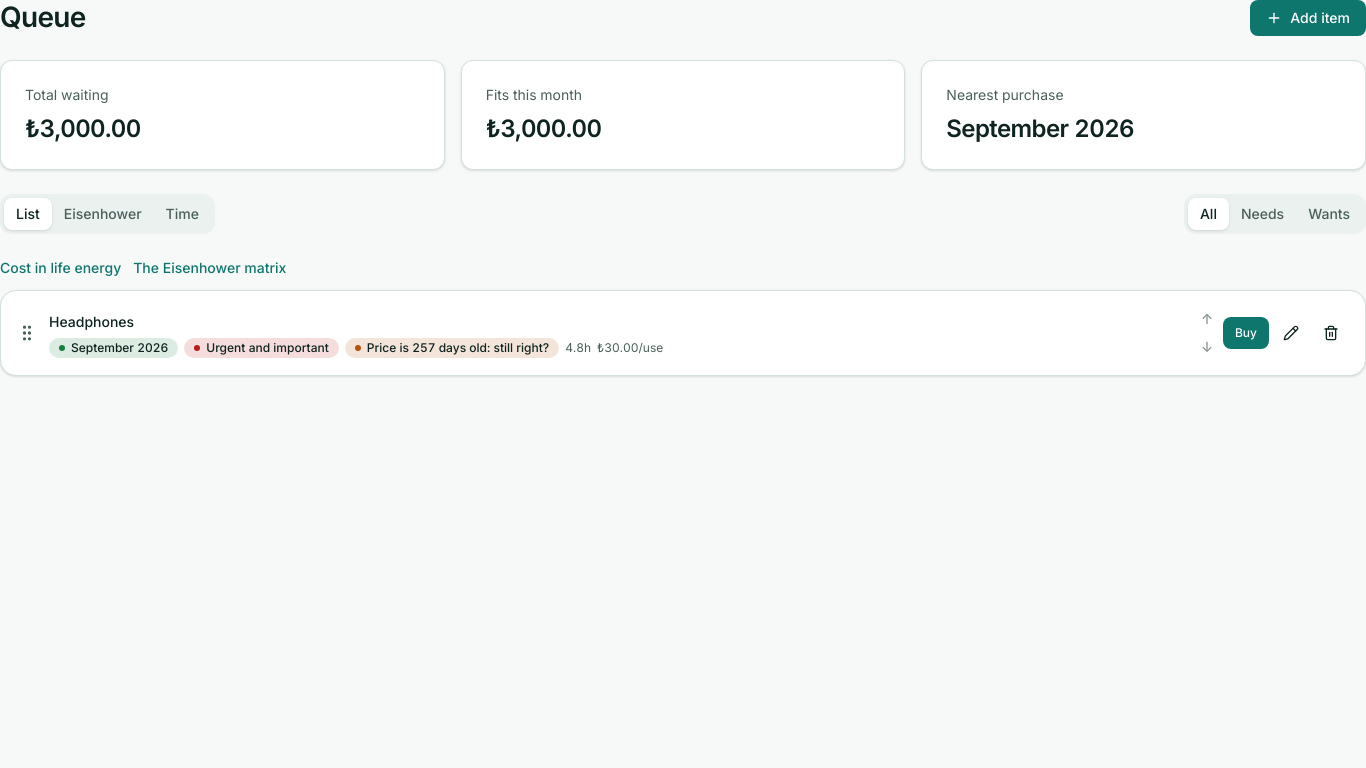
it: QueuePage purchase flow › skipping records a skipped decision, removes the item and counts as money saved
Click the button "Headphones" at (92, 322), box [37,310,146,334]
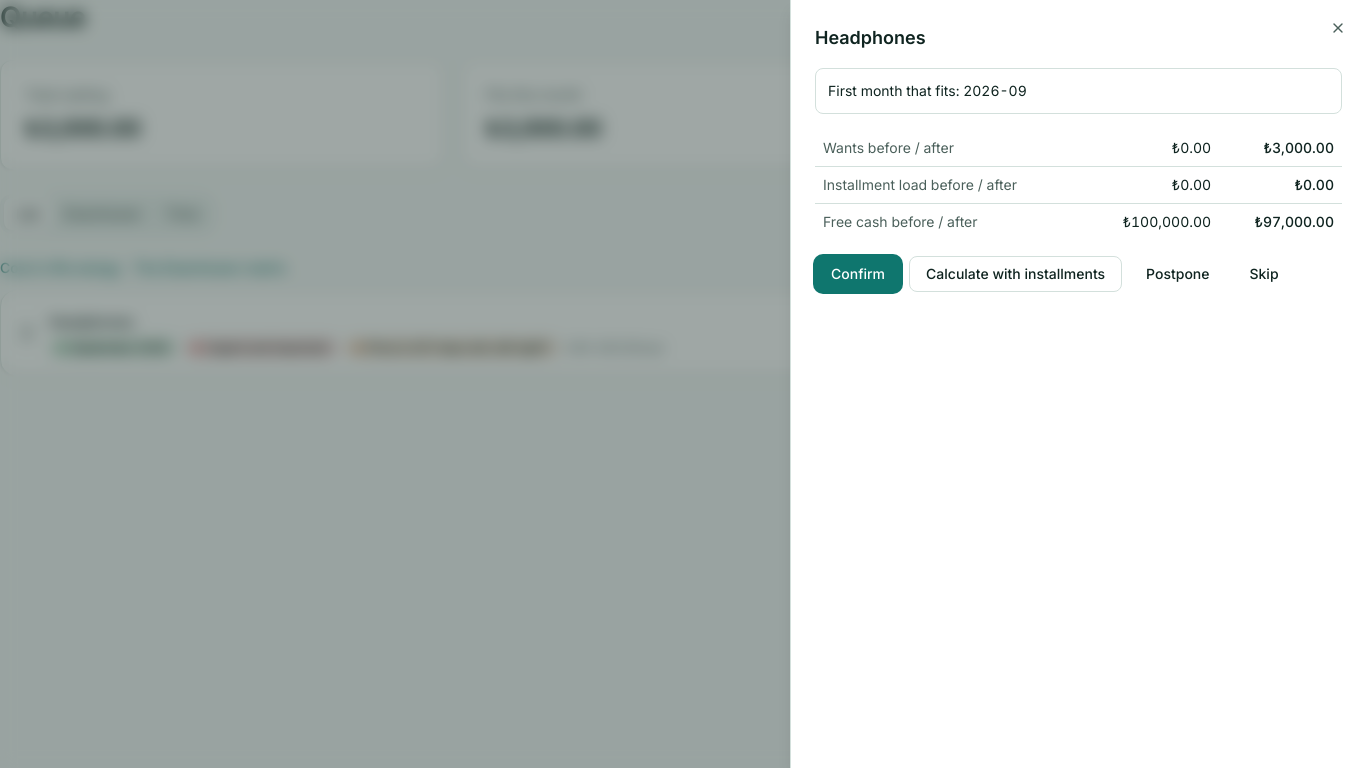
Click the button "Skip" at (1264, 274), box [1234,256,1295,292]
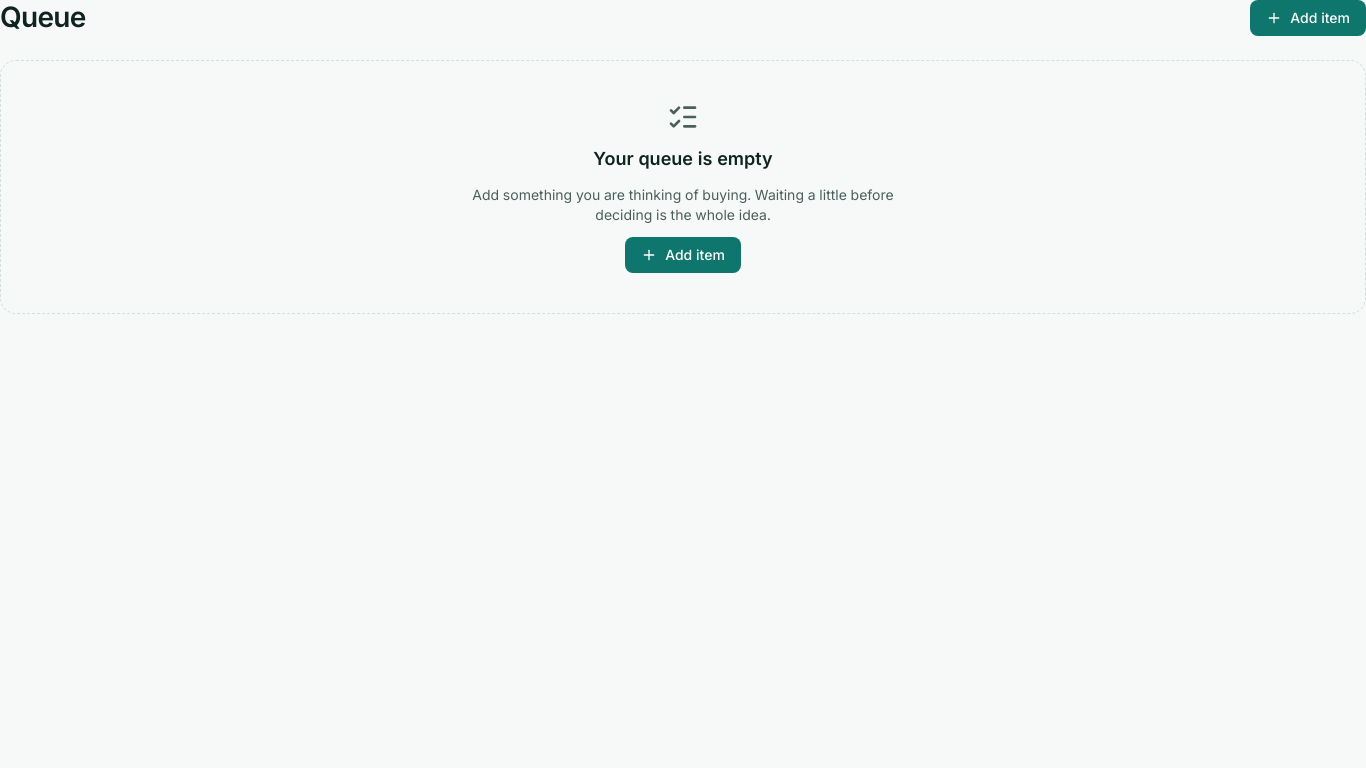
Expected: the button "Headphones" is gone
